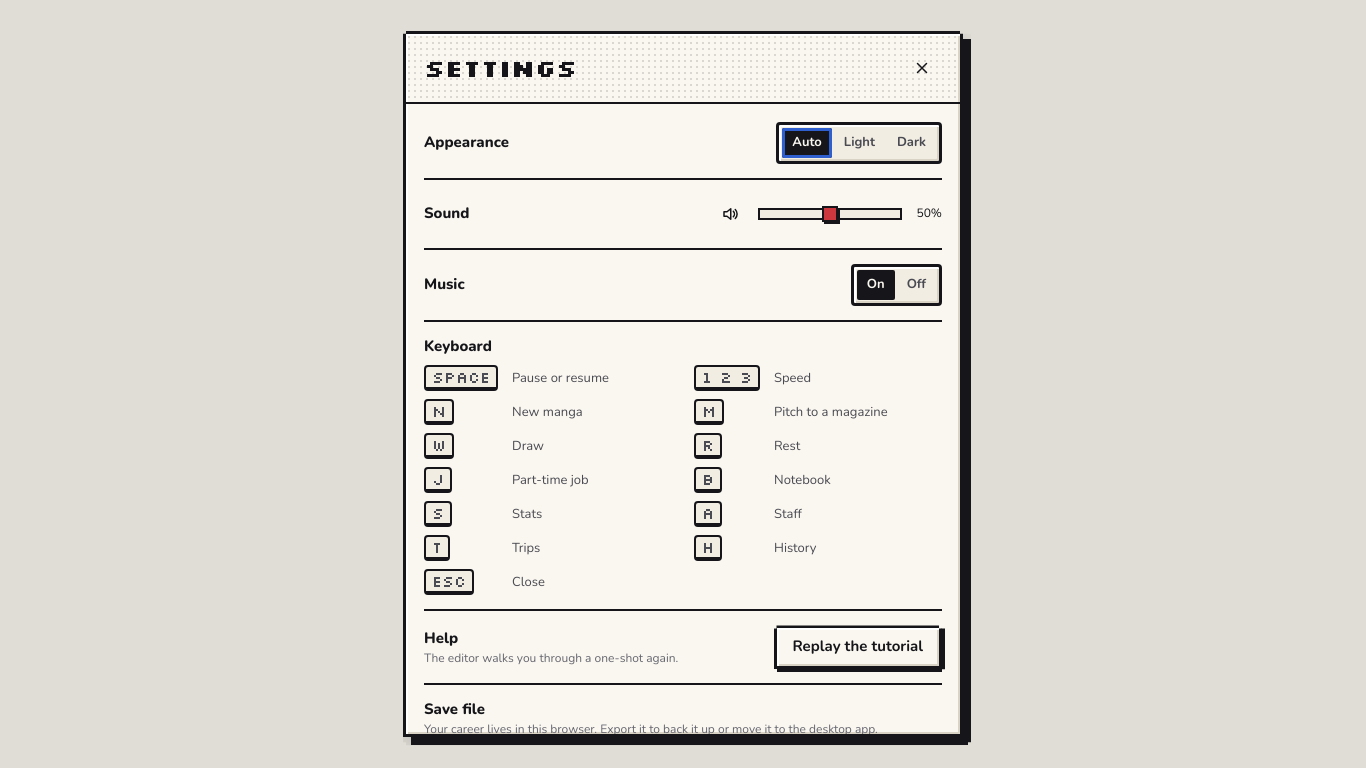
Scenario: SettingsModal › shows "Off" in the volume readout while muted, and the percentage otherwise
Expected: the text "50%" is shown, [916, 205, 942, 221]
Click the button named "Mute sound": click(730, 214) [710, 194, 750, 234]
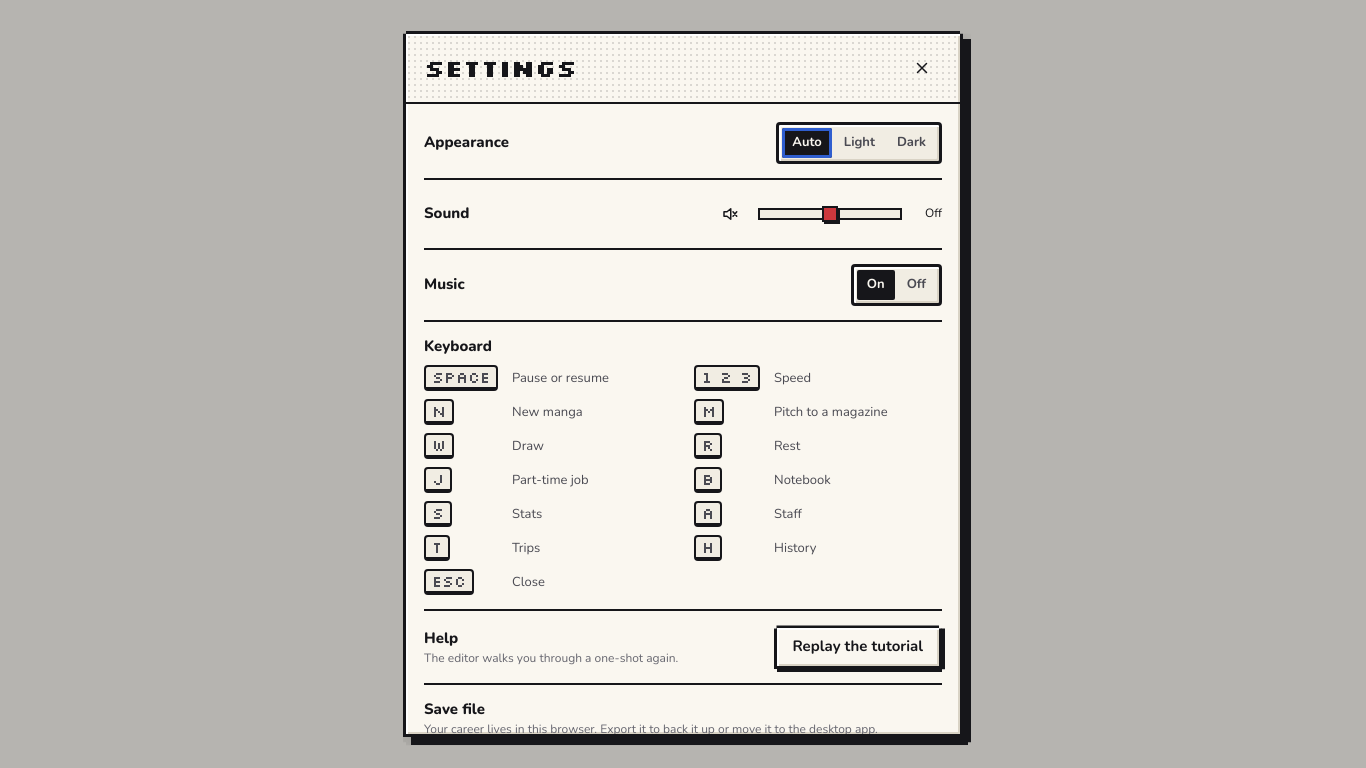
Result: the text "Off" is shown at [925, 205, 942, 221]
